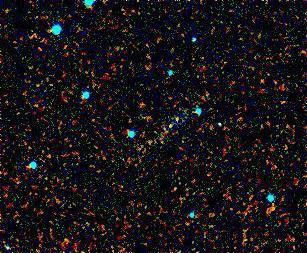star: (155, 107, 185, 137)
